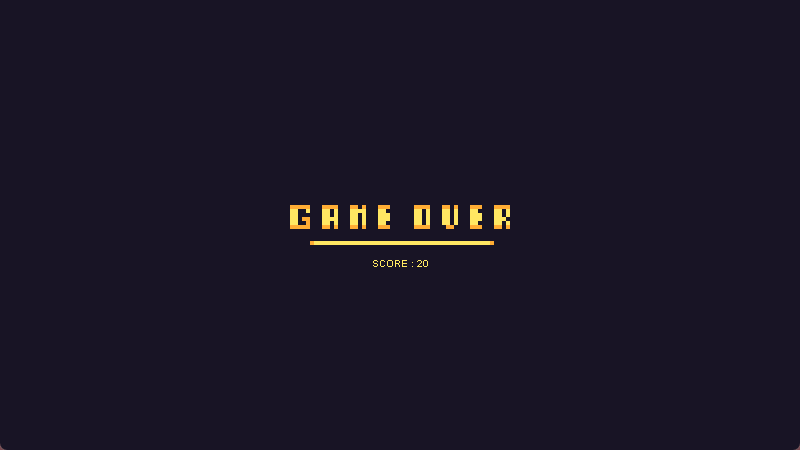game_over: (1, 1, 800, 450)
